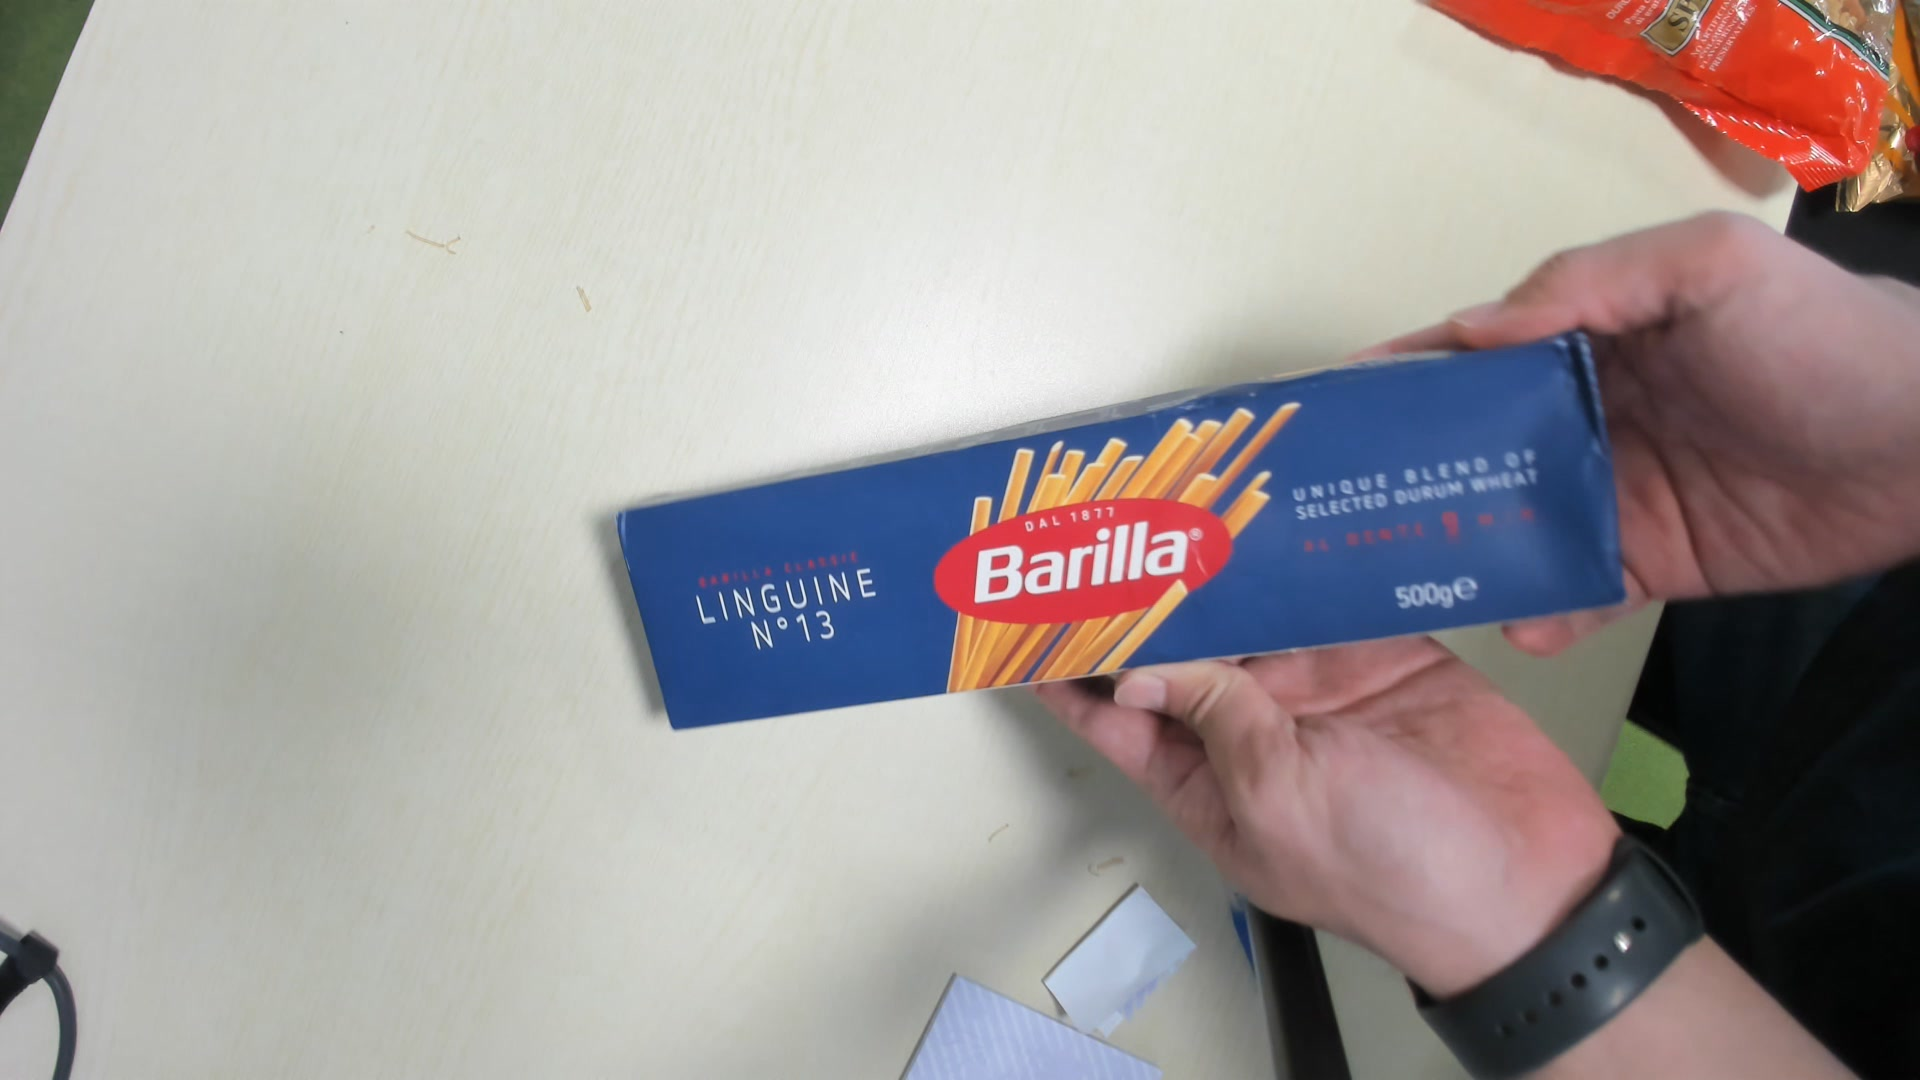Pasta_500-599g_NonHalal_NonHealthy: (621, 332, 1625, 728)
